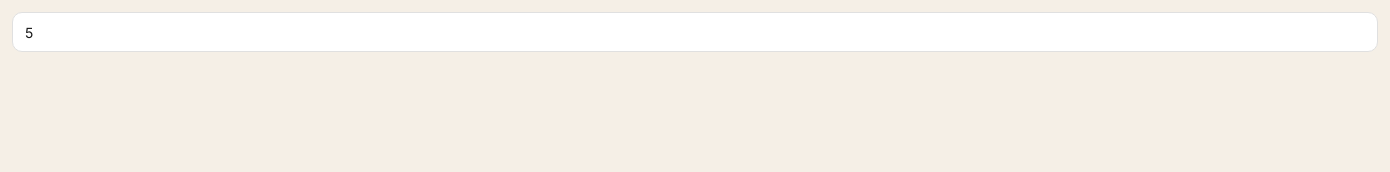
NumberInput zero handling › clearing while typing does not snap back to 0 until leaving
Clear the field named "qty" at x=695, y=32, box [12,12,1378,52]
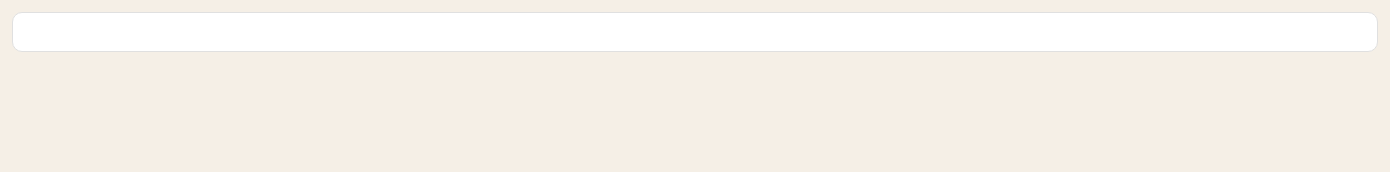
Leave the field named "qty", box [12,12,1378,52]
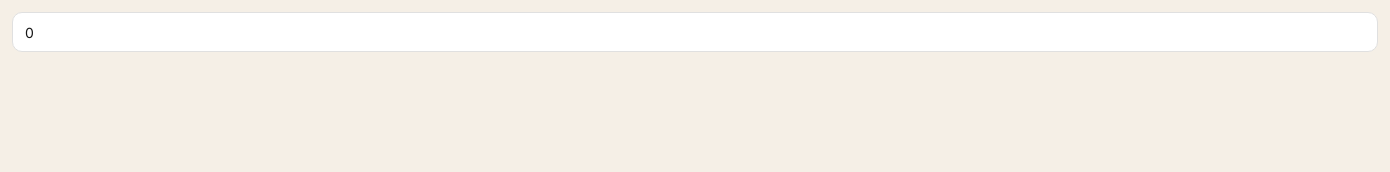
Check: the field named "qty" holds "0", box [12,12,1378,52]
